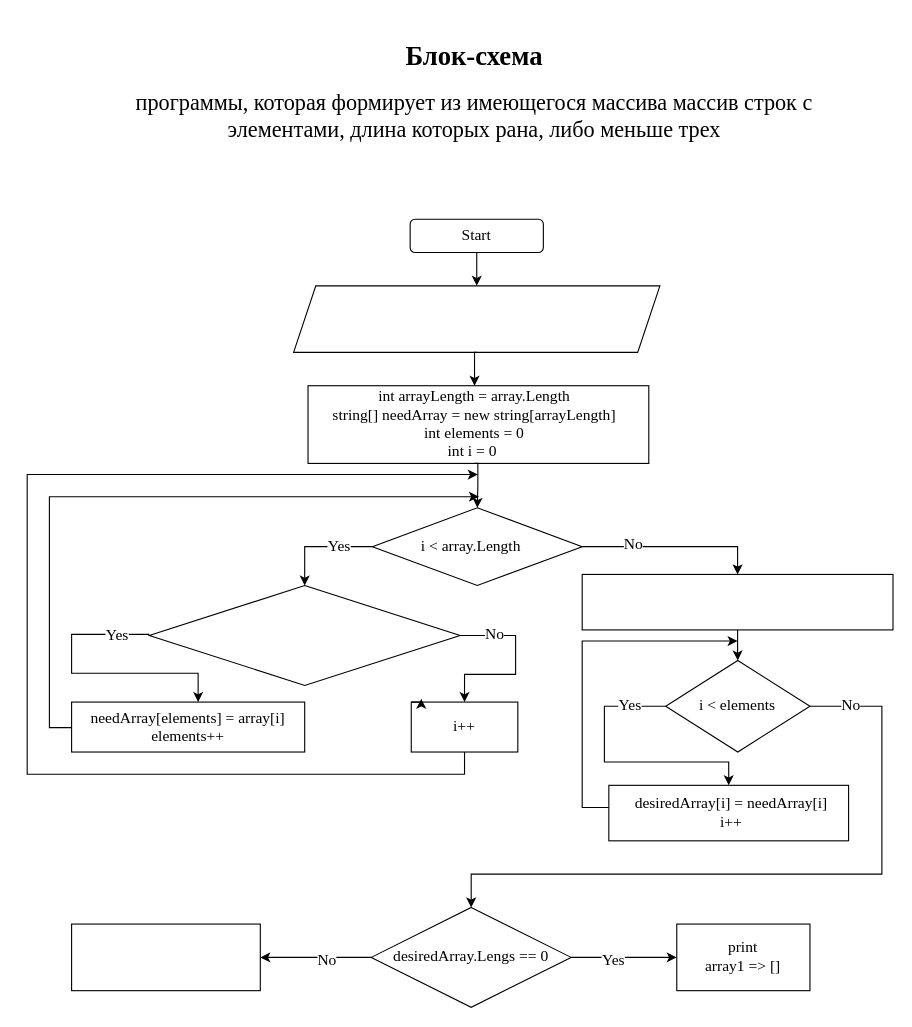
The diagram is 912 pixels wide and 1027 high, and some of its shapes have lost their labels. Each missing label, with the centre of its shape:
array[i].Length <= desiredElementLength: point 304,634
int desiredElementLength = 3 string[] array1 = "Hello" , "2" , "world" , ":-)": point 476,318
int i = 0 string[] desiredArray = new string[elements]: point 737,601
print array1 => desiredArray: point 165,957
